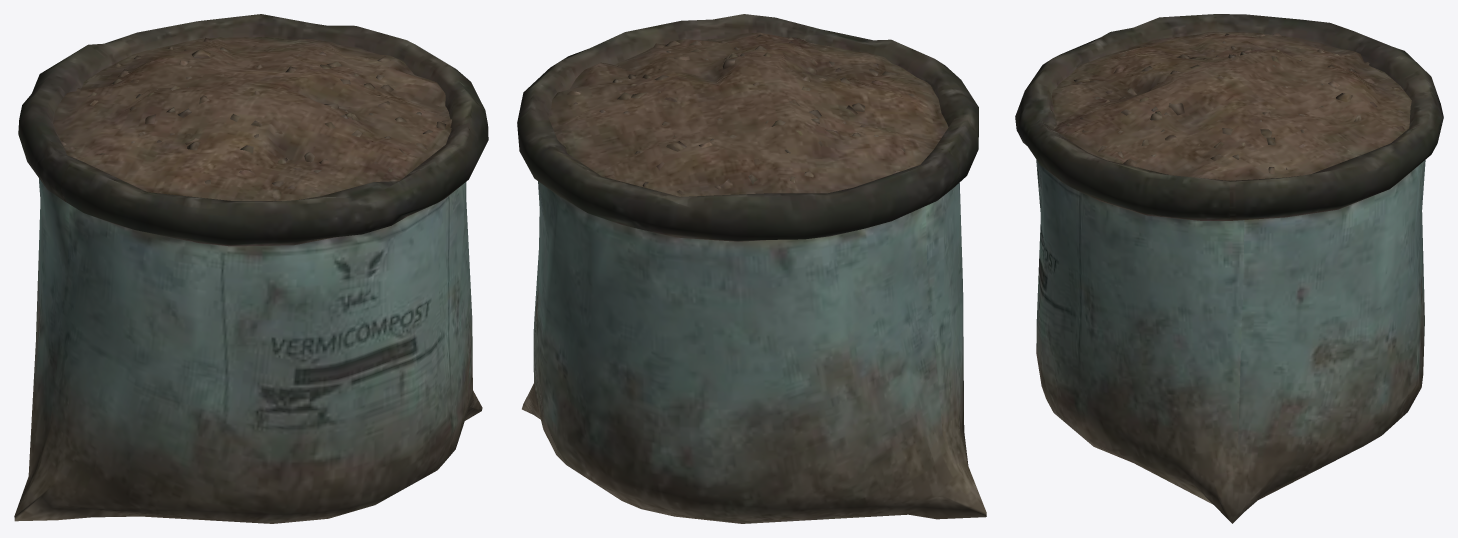
The model's file is rubbish_bag.glb.
3 views of the same model, side by side, from view 1: azimuth 30°, elevation 25°; view 2: azimuth 150°, elevation 25°; view 3: azimuth 270°, elevation 25° (orthographic). The views are drawn at different scales.
Visible parts, largest first — view 1: rubbish_bag; view 2: rubbish_bag; view 3: rubbish_bag.
Boxes of the visible parts, bbox=[...] form: rubbish_bag: bbox=[14, 14, 488, 523]; rubbish_bag: bbox=[517, 14, 986, 523]; rubbish_bag: bbox=[1015, 14, 1443, 523].
Size of the model in its own units: 0.5381 by 0.4336 by 0.4705.
1 material, 1 textured.
